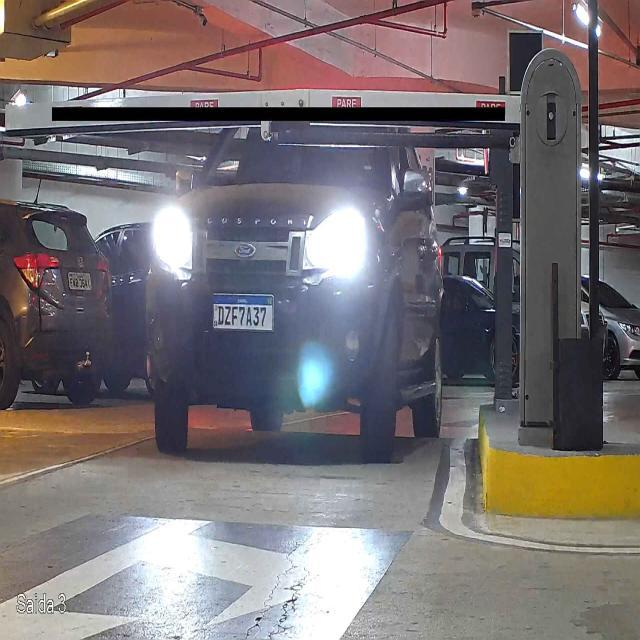mercosul_plate: (209, 290, 277, 334)
